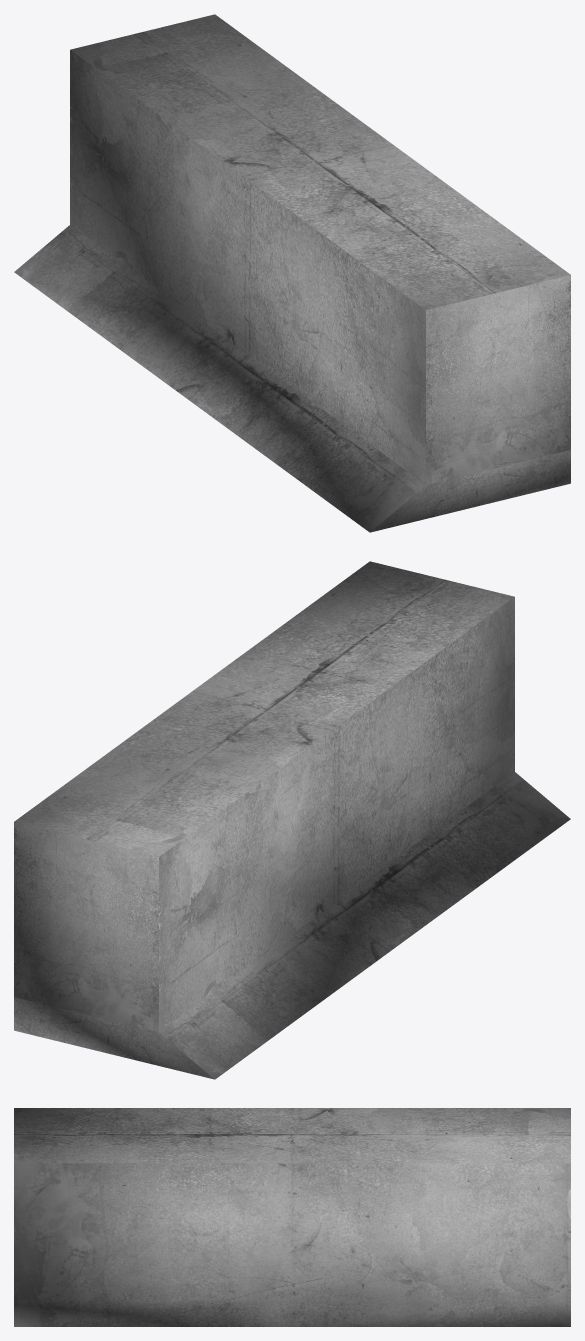
File: Hood.fbx
3 renders of one model, top to bottom at view 1: azimuth 30°, elevation 25°; view 2: azimuth 150°, elevation 25°; view 3: azimuth 270°, elevation 25°, orthographic. The views are drawn at different scales.
Visible parts, largest first — view 1: kitchen_hood.001; view 2: kitchen_hood.001; view 3: kitchen_hood.001.
Boxes of the visible parts, box(x1,y1,x2,y2) form: kitchen_hood.001: box(14, 14, 570, 532); kitchen_hood.001: box(14, 561, 570, 1079); kitchen_hood.001: box(14, 1108, 570, 1326).
Size of the model in its own units: 122 by 121 by 374.
